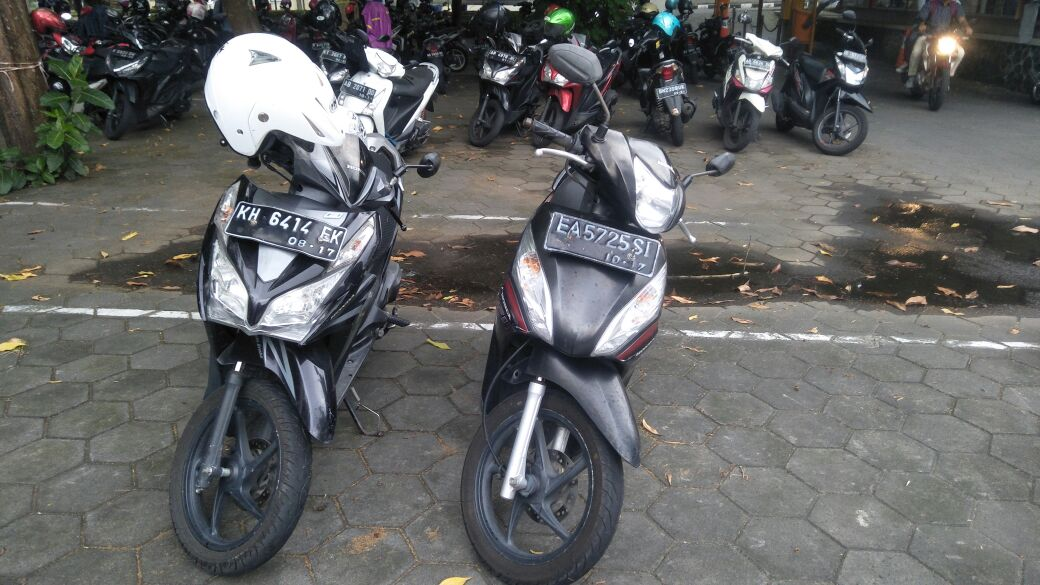plate: (541, 211, 662, 279), (224, 201, 345, 265), (339, 77, 374, 101), (653, 83, 689, 97)
